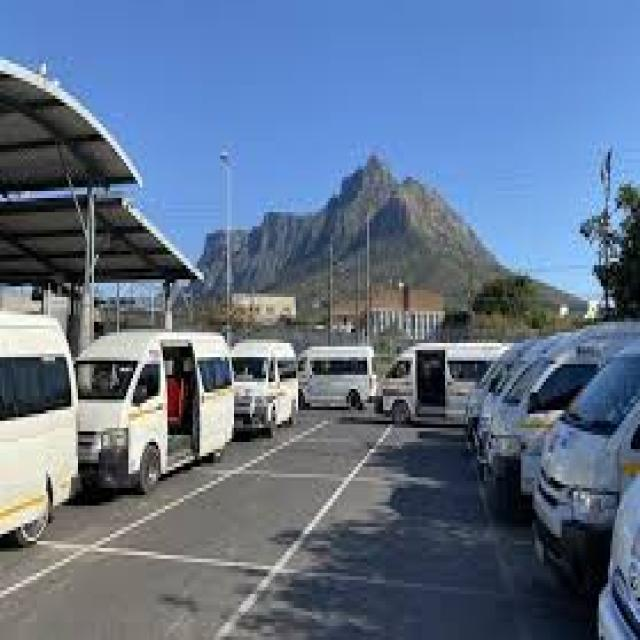MiniBus taxi: (71, 325, 239, 495), (2, 308, 76, 552), (225, 332, 303, 442), (376, 339, 470, 428)
